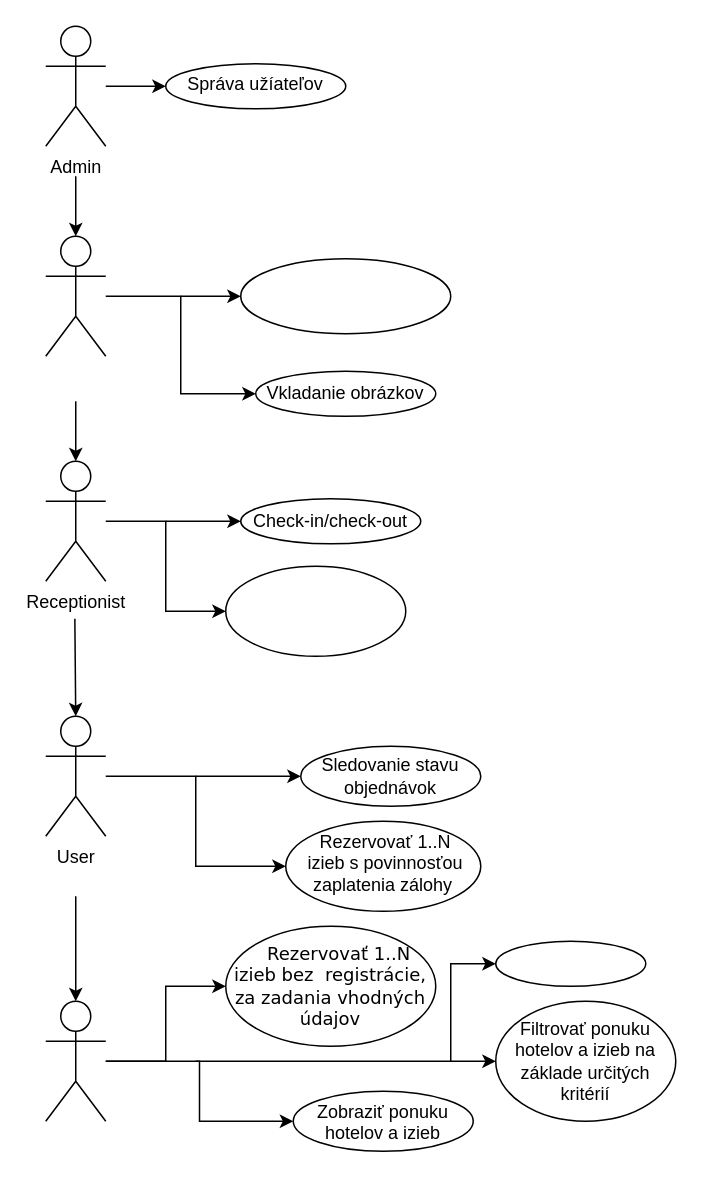
The diagram is 702 pixels wide and 1179 high, and some of its shapes have lost their labels. The box of each missing label's shape, as (x1, y1, x2, y2) in pixels:
Guest: (44, 1000, 106, 1121)
Owner: (44, 235, 106, 356)
Potvrdzuje objednávku ak bola zaplatená záloha: (224, 565, 406, 656)
Registrovať sa: (494, 940, 646, 986)
Vkladanie a správa ponuky hotelov a izieb: (239, 257, 451, 334)
